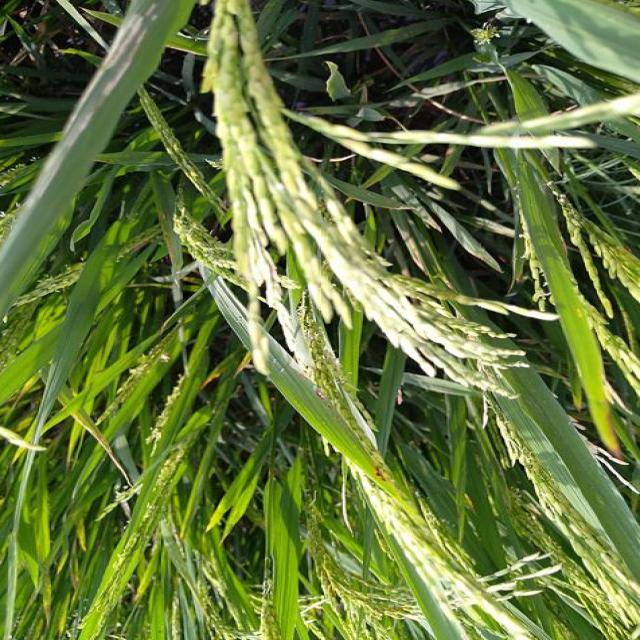Panicle Blight: (216, 36, 515, 387)
